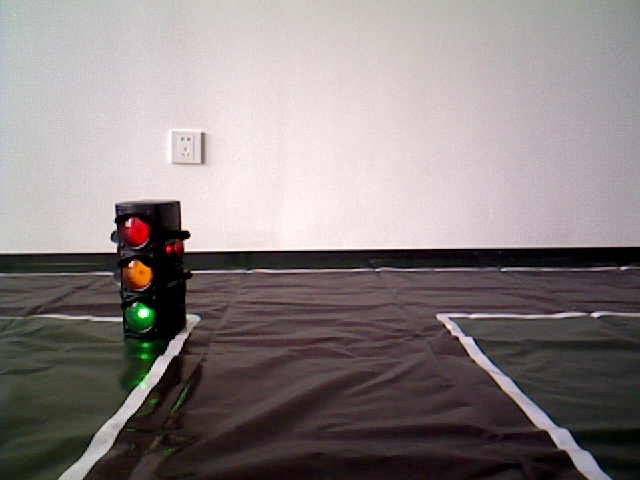green: (116, 210, 183, 324)
